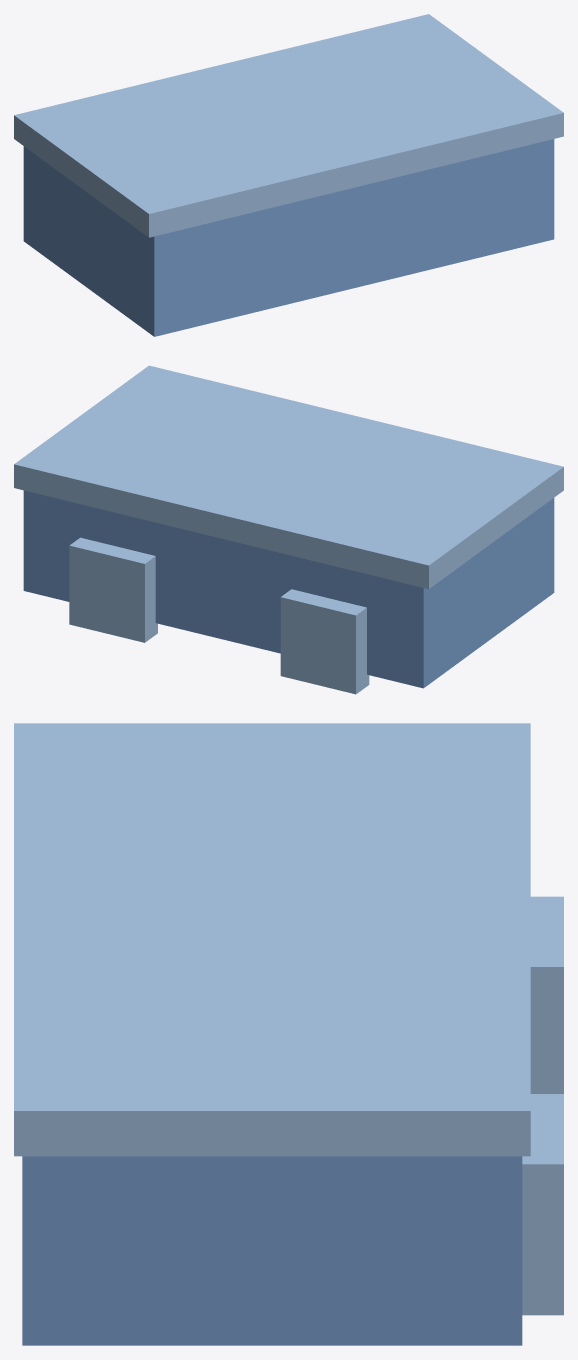
File: jeans_rasgado_cintura.glb
The picture shows the model from 3 angles, top to bottom: view 1: azimuth 30°, elevation 25°; view 2: azimuth 150°, elevation 25°; view 3: azimuth 270°, elevation 25°; orthographic projection. The views are drawn at different scales.
Visible parts, largest first — view 1: jeans_rasgado_cintura; view 2: jeans_rasgado_cintura; view 3: jeans_rasgado_cintura.
Boxes of the visible parts, x1,y1,x2,y2 form: jeans_rasgado_cintura: (14,14,563,336); jeans_rasgado_cintura: (14,365,563,694); jeans_rasgado_cintura: (14,723,563,1345).
Size of the model in its own units: 0.55 by 0.175 by 0.33.
